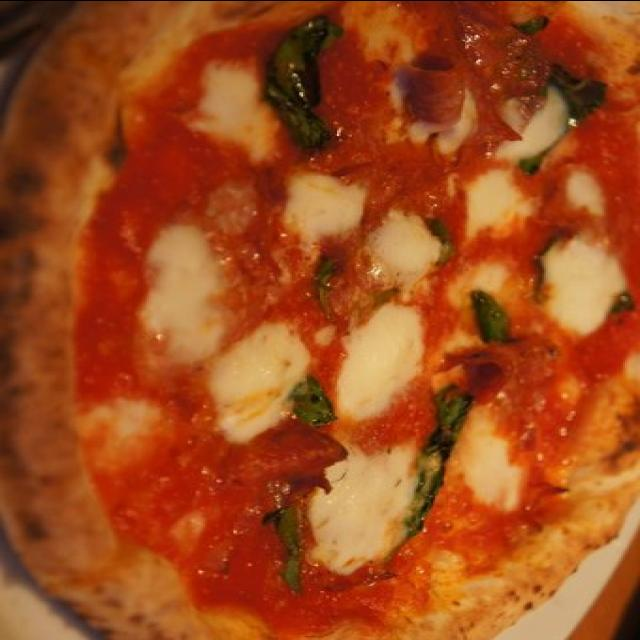basil: (161, 101, 235, 255), (298, 490, 374, 625), (34, 465, 124, 573), (54, 337, 105, 419), (334, 48, 377, 132), (114, 296, 172, 351), (303, 217, 350, 262), (298, 321, 328, 385), (184, 374, 211, 424), (0, 325, 32, 350), (88, 603, 126, 624)
pizza: (0, 0, 640, 640)
